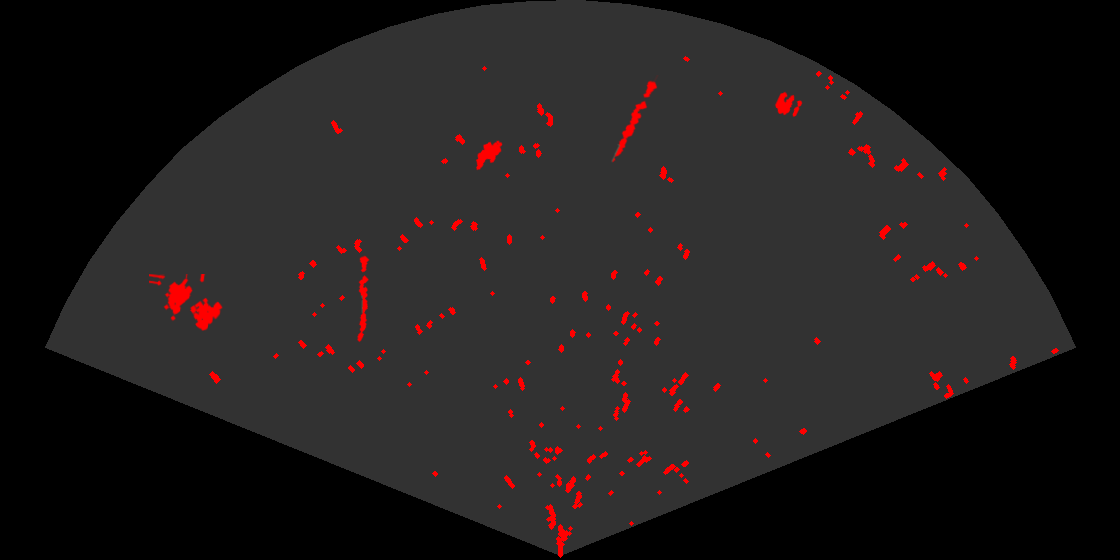AUV: (474, 139, 504, 172)
ball: (773, 90, 804, 119)
cage: (149, 274, 224, 332)
chain: (611, 75, 660, 164), (356, 255, 371, 343)
